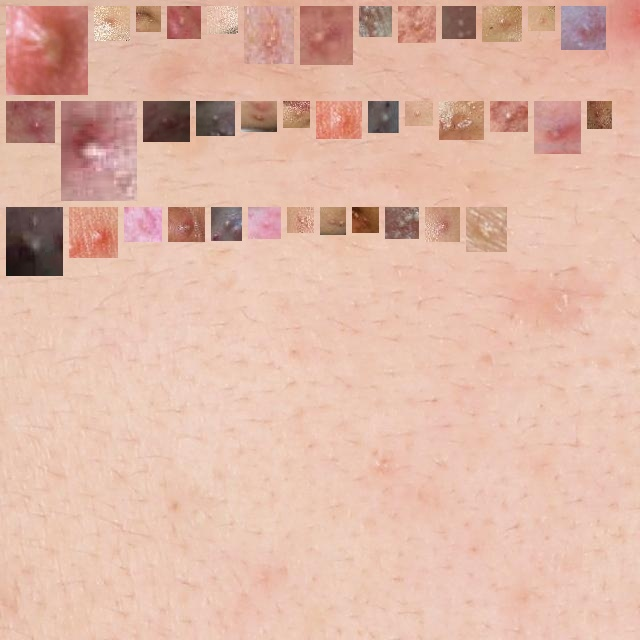pustule: (69, 109, 129, 193), (14, 14, 80, 87), (14, 215, 55, 269), (300, 14, 345, 57), (252, 14, 286, 56), (77, 215, 116, 250), (542, 109, 573, 146), (14, 109, 47, 135), (569, 14, 598, 42), (151, 109, 182, 134), (474, 215, 499, 244), (447, 109, 476, 132), (324, 109, 354, 131), (490, 14, 514, 34), (406, 14, 428, 35), (204, 109, 227, 128), (132, 215, 154, 234), (176, 215, 197, 234), (102, 14, 122, 33), (433, 215, 452, 234), (498, 109, 520, 124), (175, 14, 193, 31), (450, 14, 468, 31), (376, 109, 395, 125), (249, 109, 269, 124), (393, 215, 411, 231), (256, 215, 273, 231), (219, 215, 234, 233), (367, 14, 384, 29), (215, 14, 230, 26), (291, 109, 302, 120), (328, 215, 338, 227), (295, 215, 306, 225), (360, 215, 371, 225), (413, 109, 425, 118), (595, 109, 604, 121), (536, 14, 547, 23), (144, 14, 153, 24)
